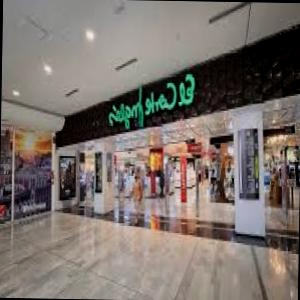corte_ingles: (104, 73, 300, 140)
